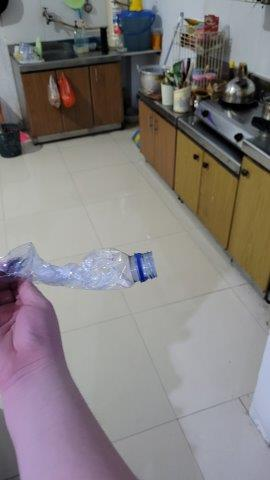botolplastik: (2, 245, 156, 290)
